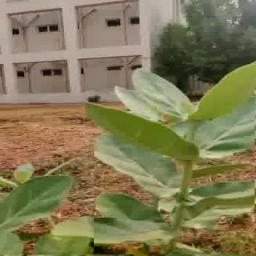Calotropis: (85, 67, 255, 255), (0, 149, 95, 255)
